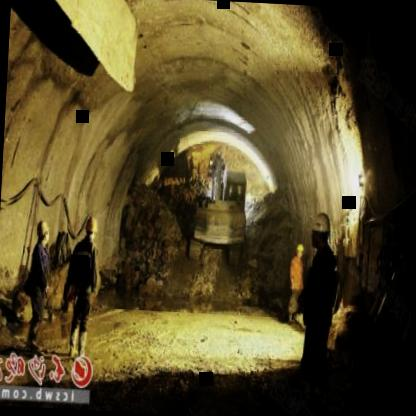helmet: (307, 207, 331, 250), (32, 216, 54, 249), (82, 212, 103, 243), (292, 238, 306, 260)
